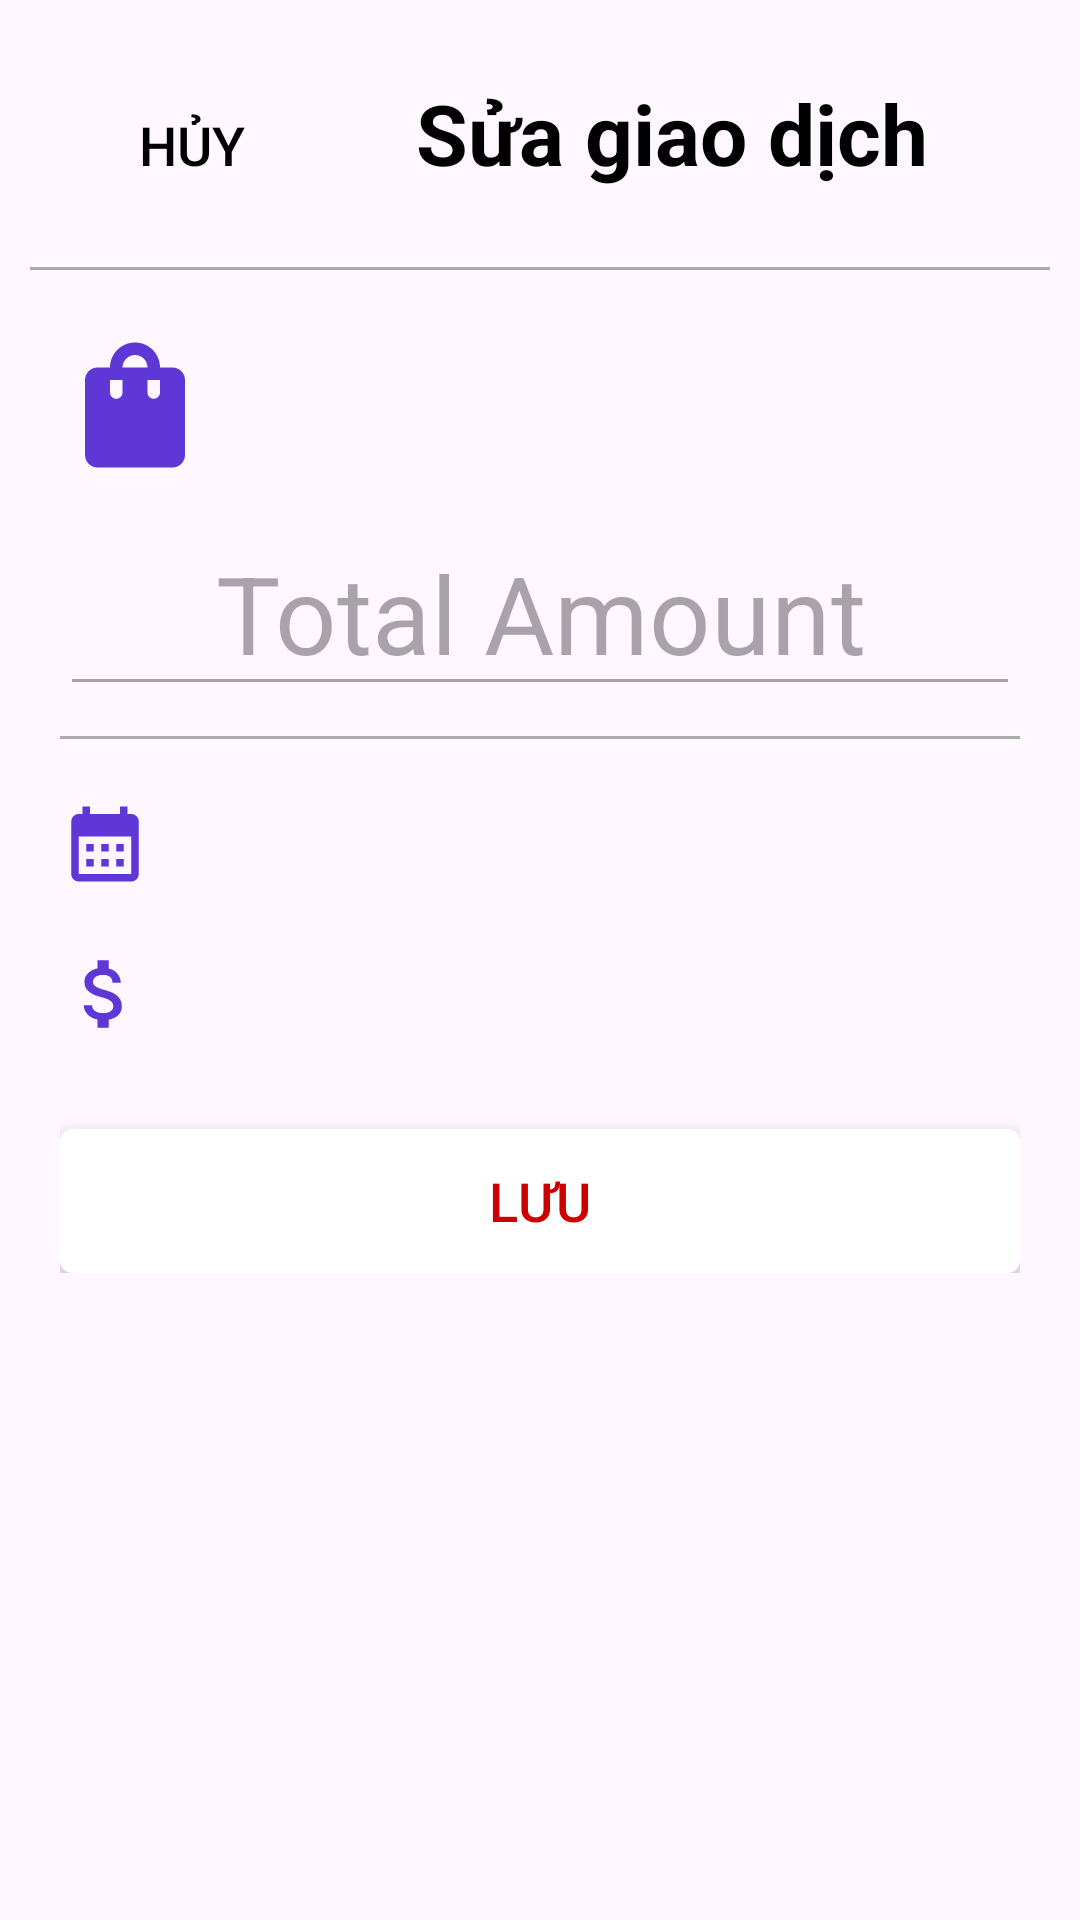

Screen size 1080 x 1920. Icon name, then its box in pixels as box(x1, y1, x2, y2):
attach money: box(83, 960, 122, 1028)
calendar month: box(71, 806, 139, 882)
shopping bag: box(85, 342, 185, 468)
